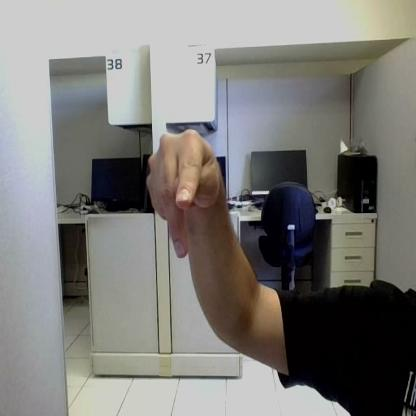P: (147, 130, 220, 258)
